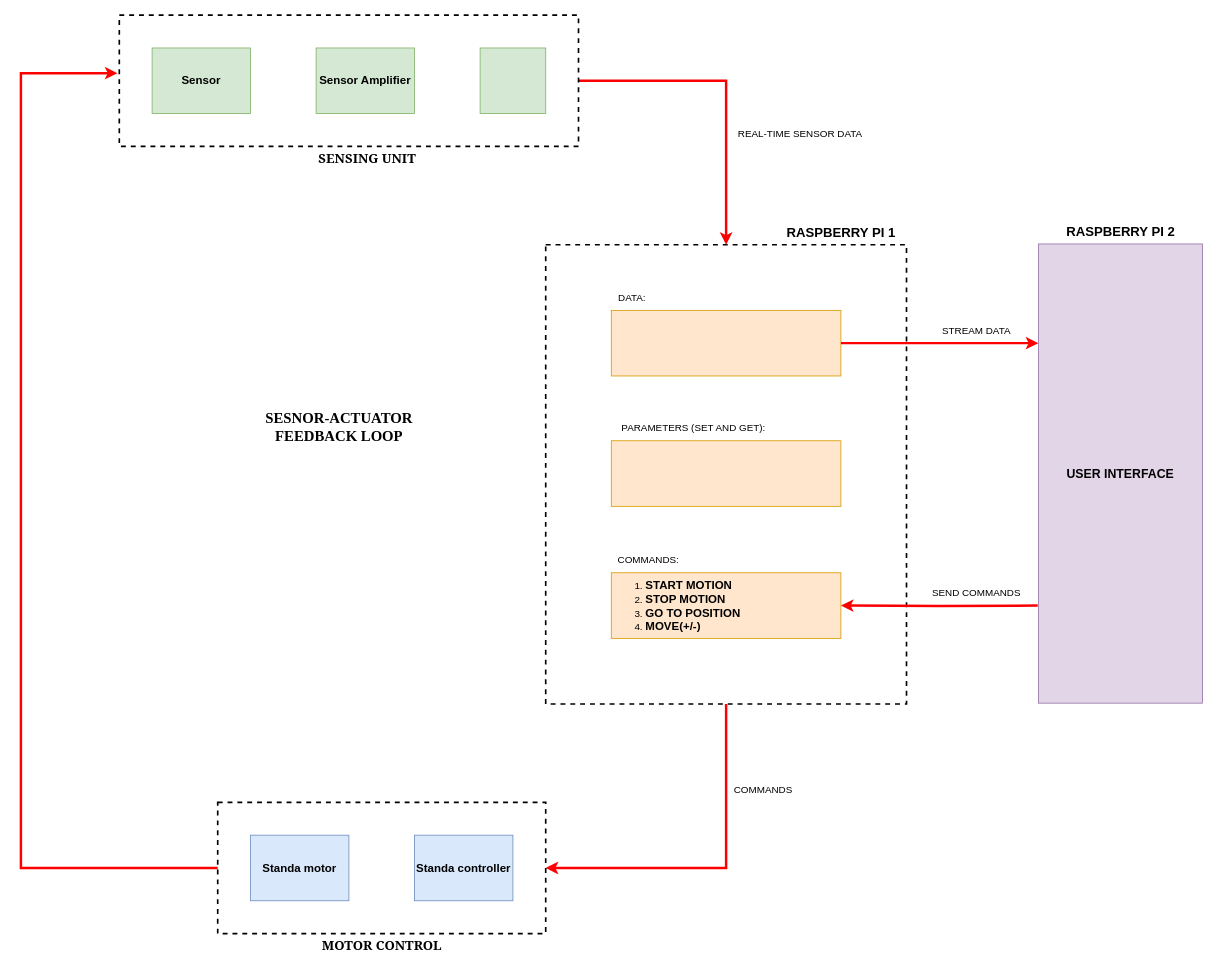
Some shapes in this 1217 by 972 pixel diagram are drawn without their labels. Each missing label, with the box of its shape:
ADC: (479, 47, 546, 114)
SPEED( +/-) SETPOINT OF AMPLITUDE PAUSE WHEN IN CONTACT BACKWARD MOTION: (610, 440, 841, 506)
TIME FORCE POSITION STATE: (610, 310, 841, 376)
